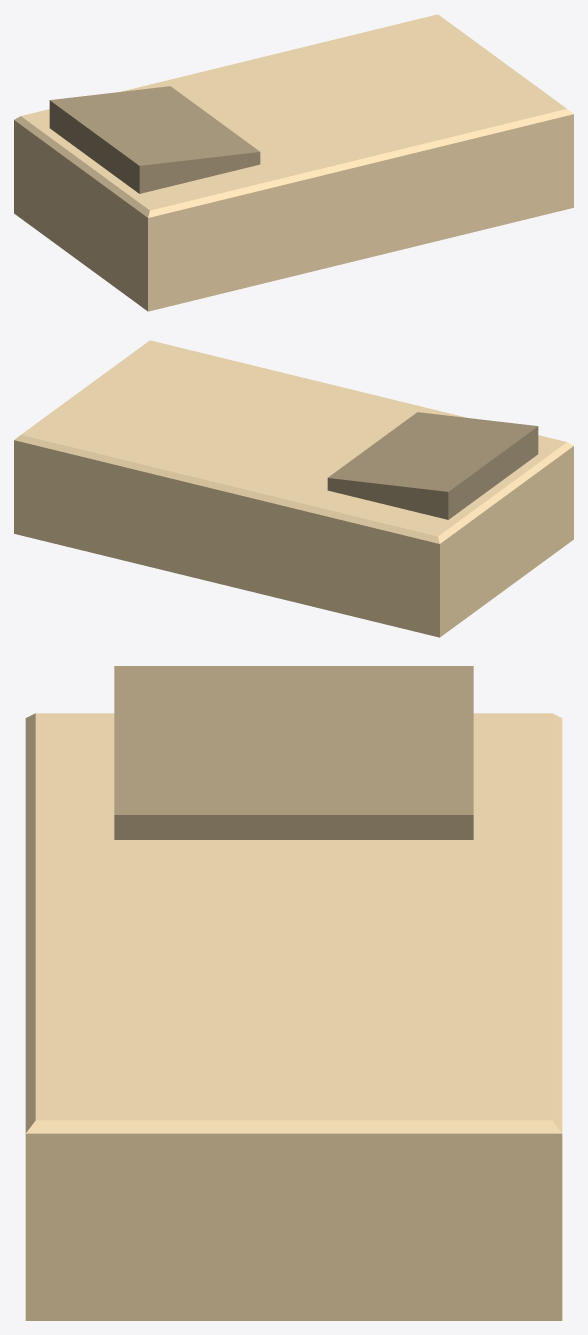
The model's file is Mouse.fbx.
3 views of the same model, one above another, from view 1: azimuth 30°, elevation 25°; view 2: azimuth 150°, elevation 25°; view 3: azimuth 270°, elevation 25° (orthographic). The views are drawn at different scales.
Parts seen in each view (by area): view 1: Mouse; view 2: Mouse; view 3: Mouse.
Boxes of the visible parts, <box> form: Mouse: <box>14,14,573,311</box>; Mouse: <box>14,340,573,637</box>; Mouse: <box>25,666,562,1320</box>.
Size of the model in its own units: 63.71 by 18.05 by 34.77.
